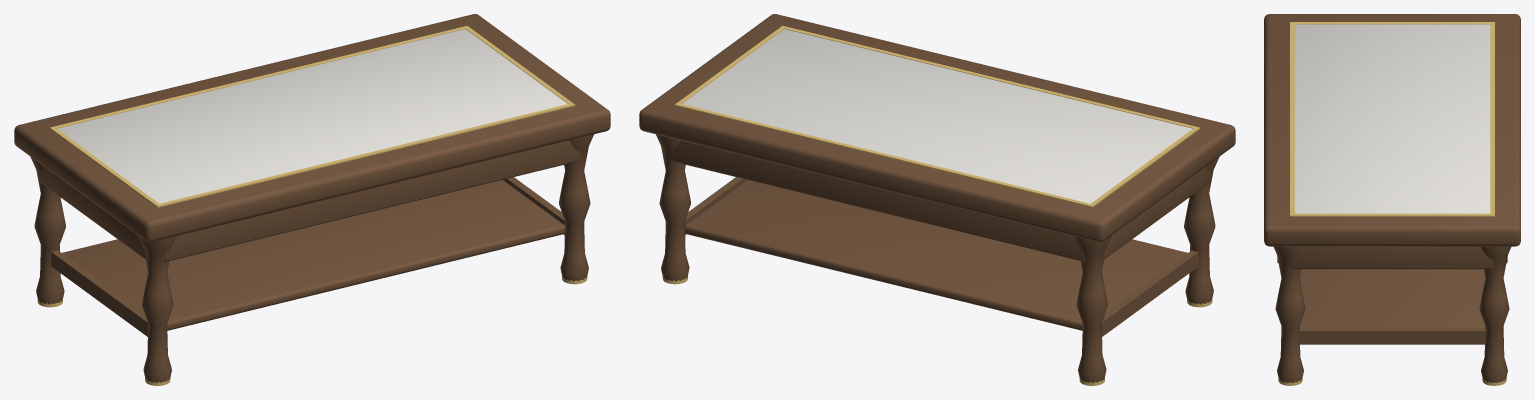
Rendered from arr_tavolino.fbx.
3 views of the same model, side by side, from view 1: azimuth 30°, elevation 25°; view 2: azimuth 150°, elevation 25°; view 3: azimuth 270°, elevation 25° (orthographic). The views are drawn at different scales.
Parts seen in each view (by area): view 1: arr_tavolino_noce, arr_tavolino_marmo, arr_tavolino_ottone; view 2: arr_tavolino_noce, arr_tavolino_marmo, arr_tavolino_ottone; view 3: arr_tavolino_noce, arr_tavolino_marmo, arr_tavolino_ottone.
Part boxes in pixels (<box>): arr_tavolino_noce: <box>14,14,610,383</box>; arr_tavolino_marmo: <box>57,29,567,203</box>; arr_tavolino_ottone: <box>37,25,587,385</box>; arr_tavolino_noce: <box>639,14,1235,383</box>; arr_tavolino_marmo: <box>682,29,1192,203</box>; arr_tavolino_ottone: <box>662,25,1212,385</box>; arr_tavolino_noce: <box>1264,14,1520,382</box>; arr_tavolino_marmo: <box>1294,24,1490,213</box>; arr_tavolino_ottone: <box>1278,22,1506,385</box>.
Bounding box in the file's own units: 1.35 × 0.4835 × 0.68.
